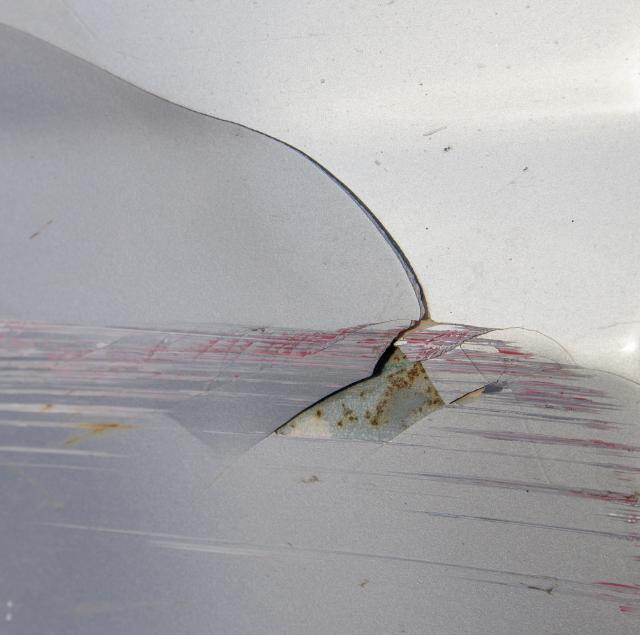crack: (0, 21, 435, 441)
rub: (0, 316, 640, 623)
